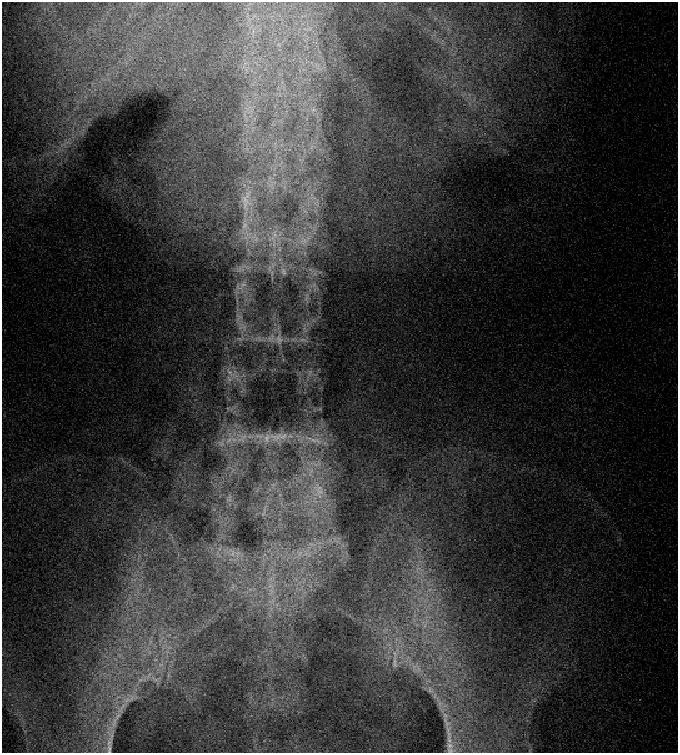lumbar scoliosis: (207, 127, 333, 584)
